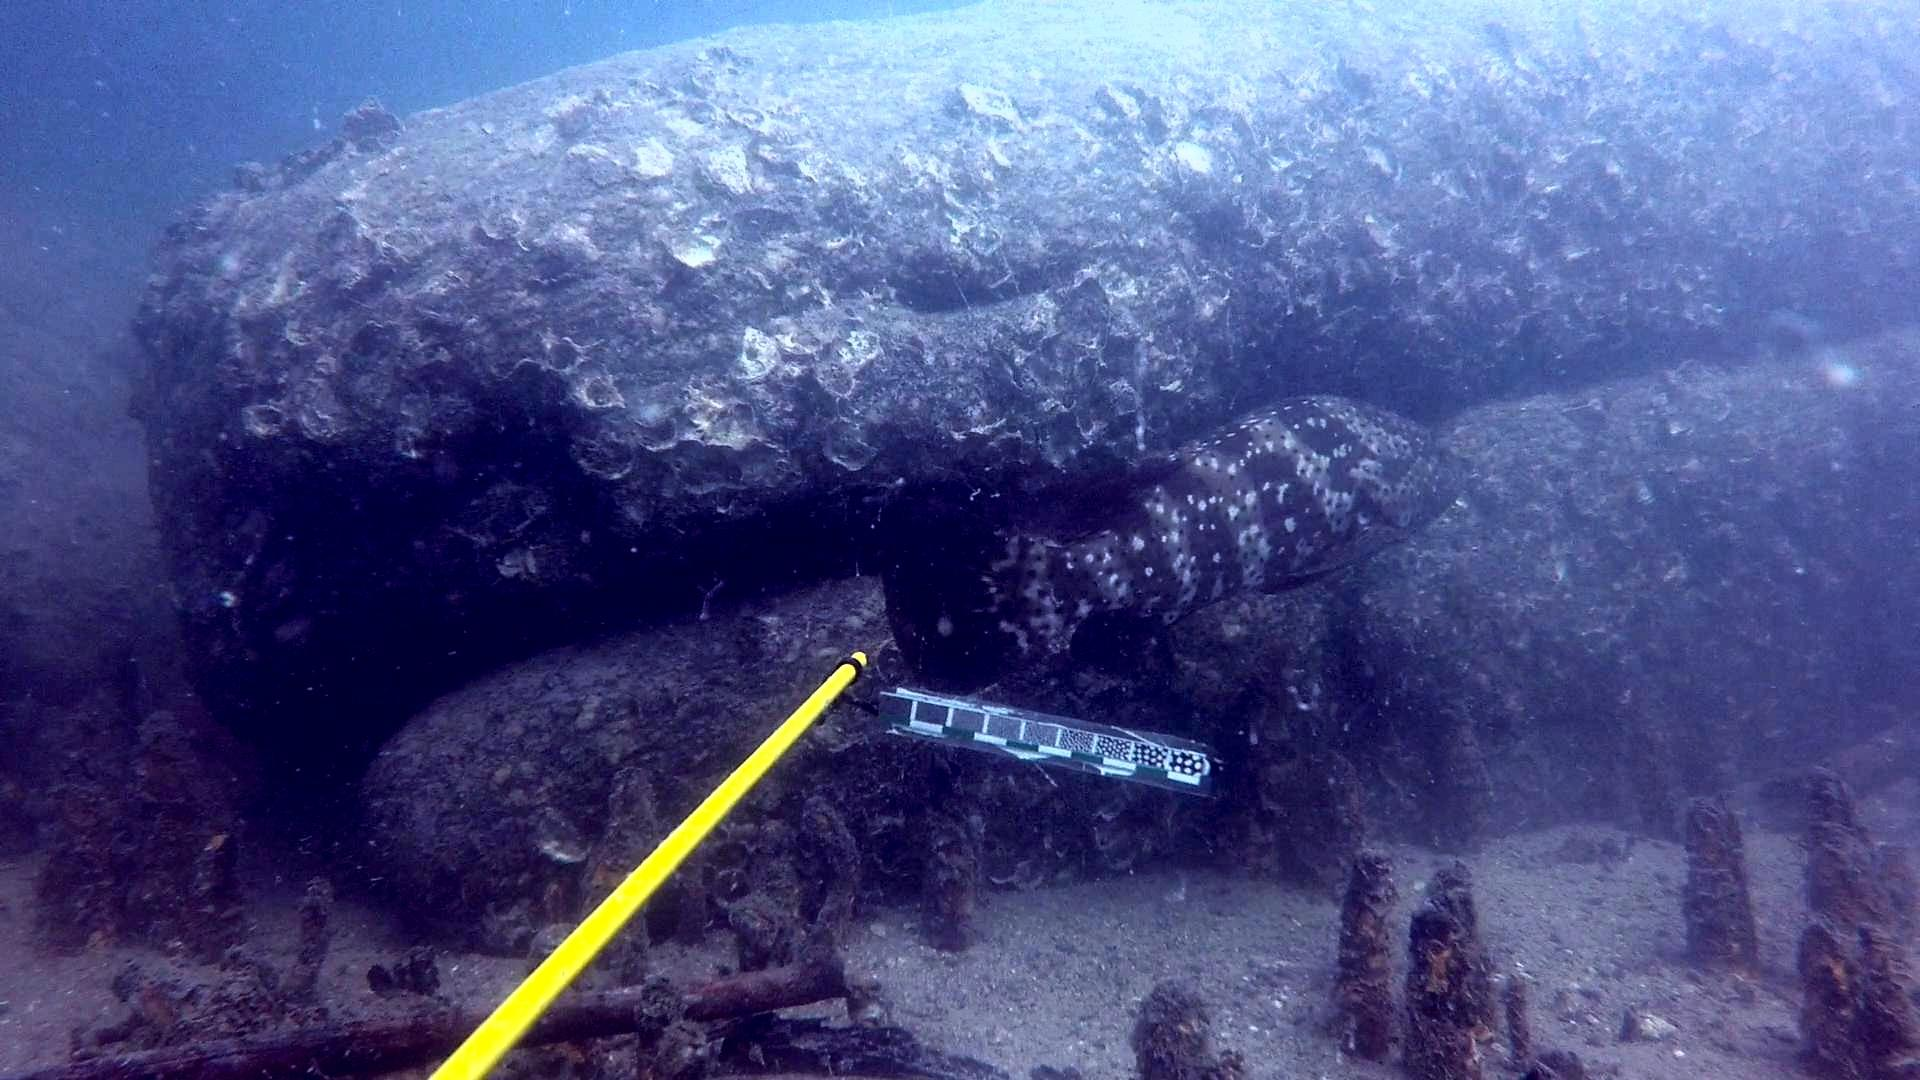epinephelus: (856, 390, 1476, 703)
